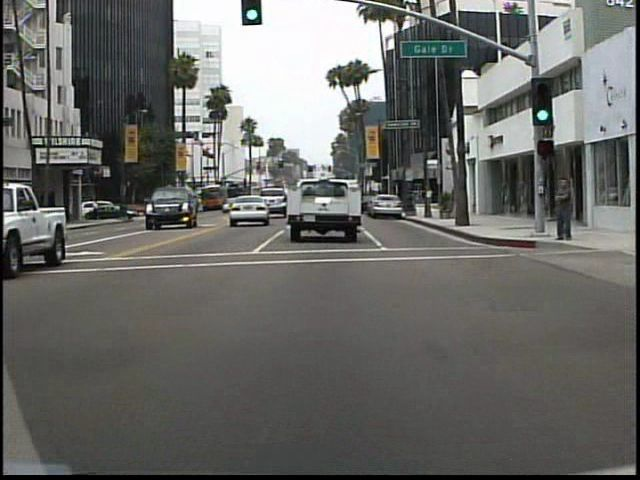person: (549, 170, 575, 248)
